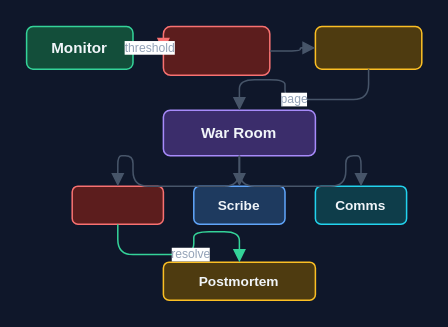
This 448x327 diagram has some shape labels left out. The shapes that lost their labels are listed below. From the top down, each one's box as (x1, y1, x2, y2) in pixels, then its label:
(162, 25, 270, 75): Alert Fired!
(314, 25, 422, 69): PagerDuty
(71, 185, 163, 224): IC
